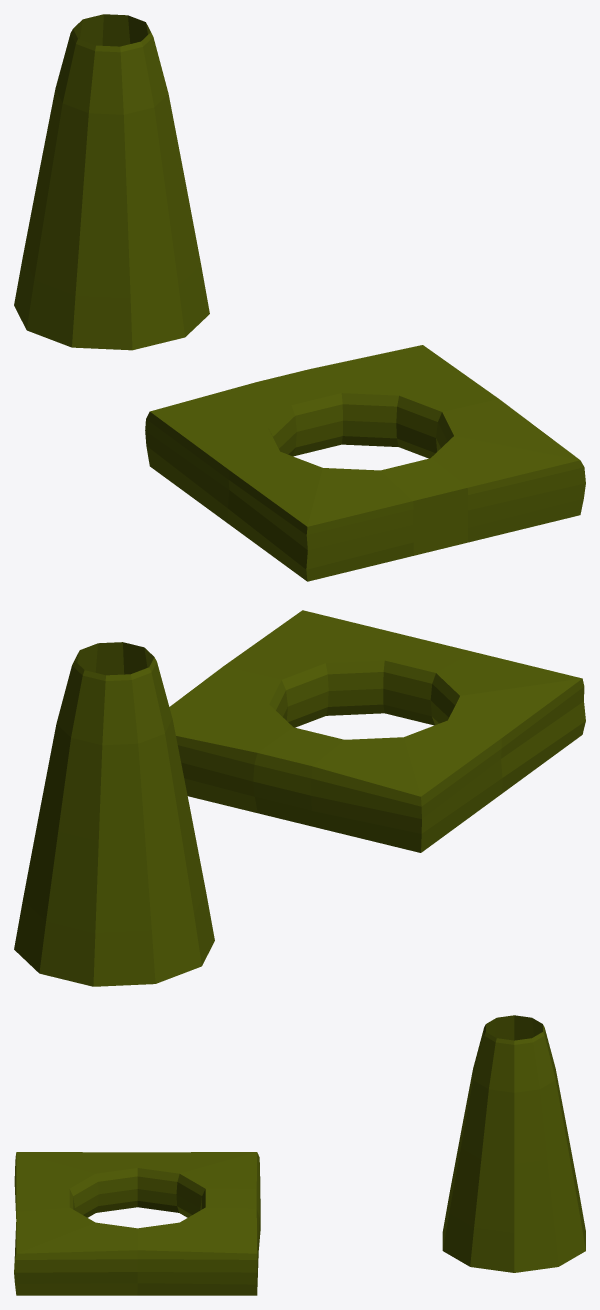
The model's file is TrafficCone_V3.fbx.
The picture shows the model from 3 angles, top to bottom: view 1: azimuth 30°, elevation 25°; view 2: azimuth 150°, elevation 25°; view 3: azimuth 270°, elevation 25°; orthographic projection. The views are drawn at different scales.
Visible parts, largest first — view 1: ConeBase, ConeForm; view 2: ConeBase, ConeForm; view 3: ConeBase, ConeForm.
Boxes of the visible parts, <box> form: ConeBase: <box>145,345,585,581</box>; ConeForm: <box>14,14,209,350</box>; ConeBase: <box>169,610,585,852</box>; ConeForm: <box>14,642,214,986</box>; ConeBase: <box>14,1152,260,1295</box>; ConeForm: <box>442,1015,585,1272</box>.
Bounding box in the file's own units: 122 × 117 × 283.
